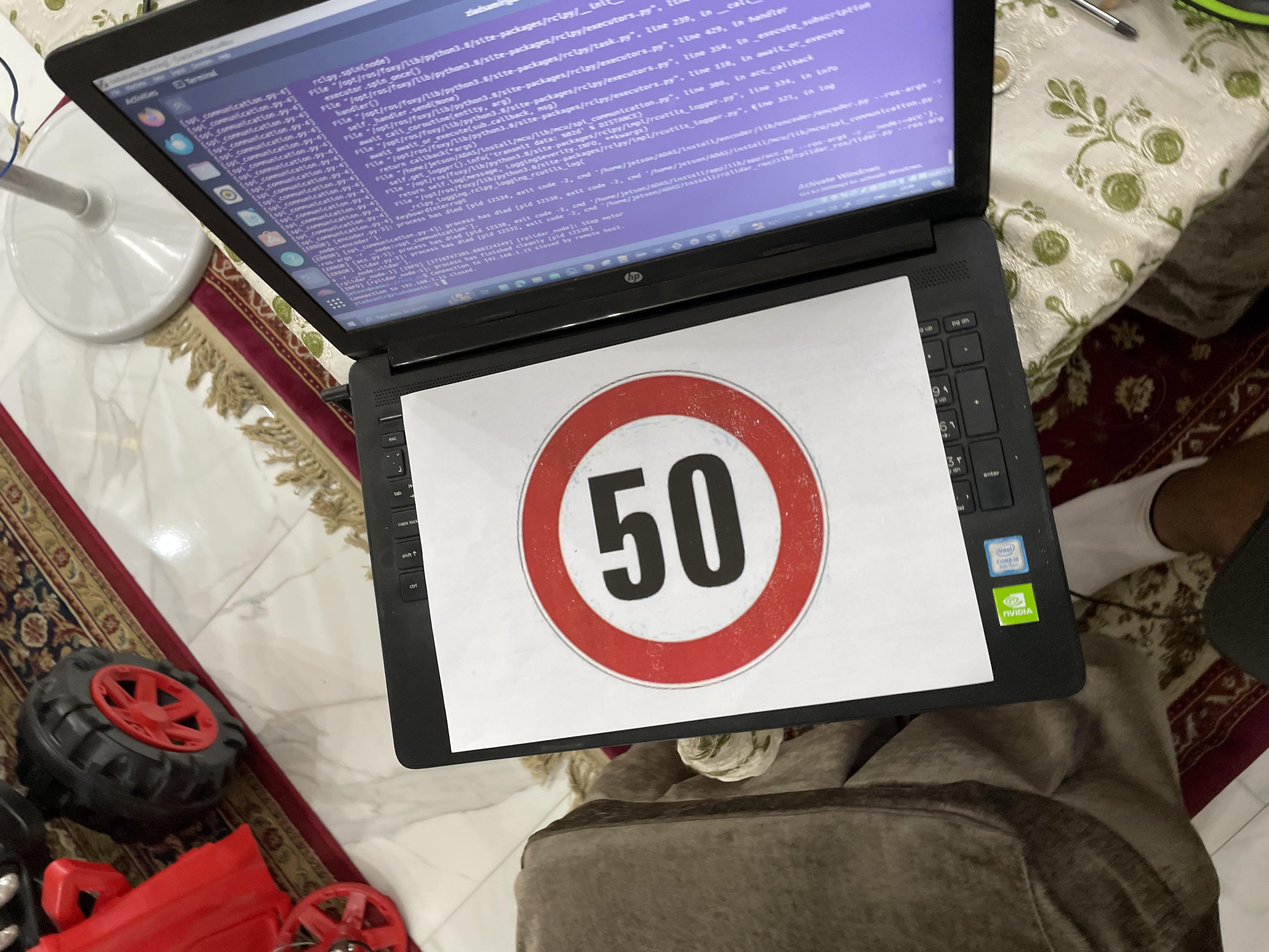50-Speed: (332, 376, 788, 628)
